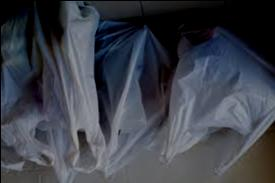Plastic: (155, 10, 274, 182), (1, 5, 103, 182), (94, 18, 182, 182)
